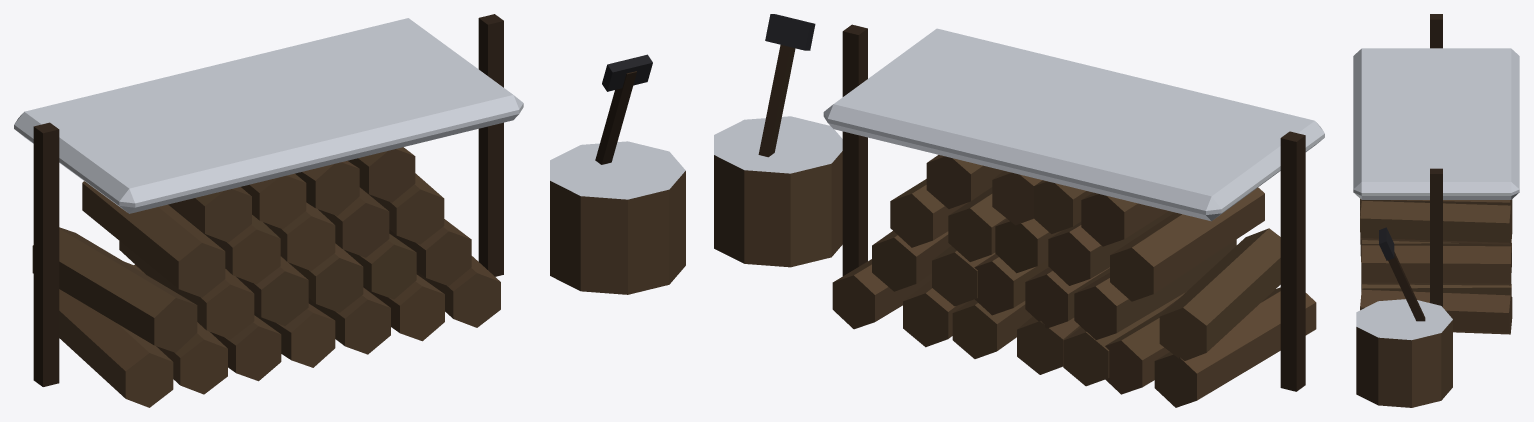
The model's file is village_woodpile.glb.
The picture shows the model from 3 angles, left to right: view 1: azimuth 30°, elevation 25°; view 2: azimuth 150°, elevation 25°; view 3: azimuth 270°, elevation 25°; orthographic projection. The views are drawn at different scales.
Parts seen in each view (by area): view 1: village_woodpile; view 2: village_woodpile; view 3: village_woodpile.
Boxes of the visible parts, x1,y1,x2,y2 form: village_woodpile: (14, 14, 685, 407); village_woodpile: (714, 14, 1324, 407); village_woodpile: (1353, 14, 1519, 407).
Bounding box in the file's own units: 3.04 × 1.2 × 1.
